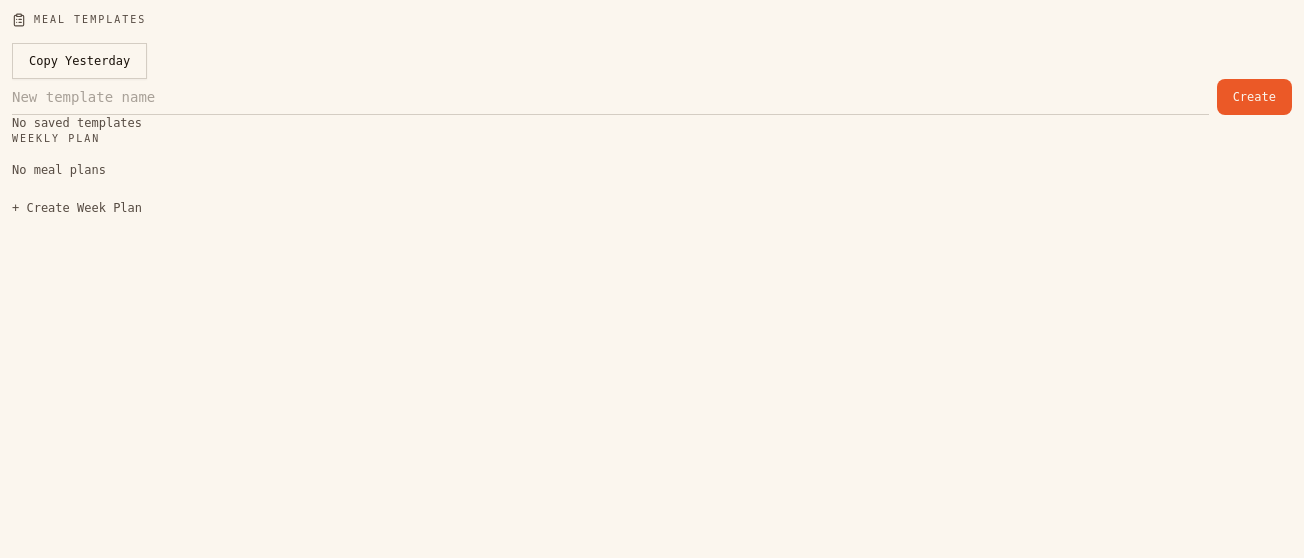
Test case: MealTemplates › renders the Create Week Plan section with plan name input
The image size is (1304, 558).
Click the button "+ Create Week Plan".
click(77, 208)  # box [12,200,142,216]
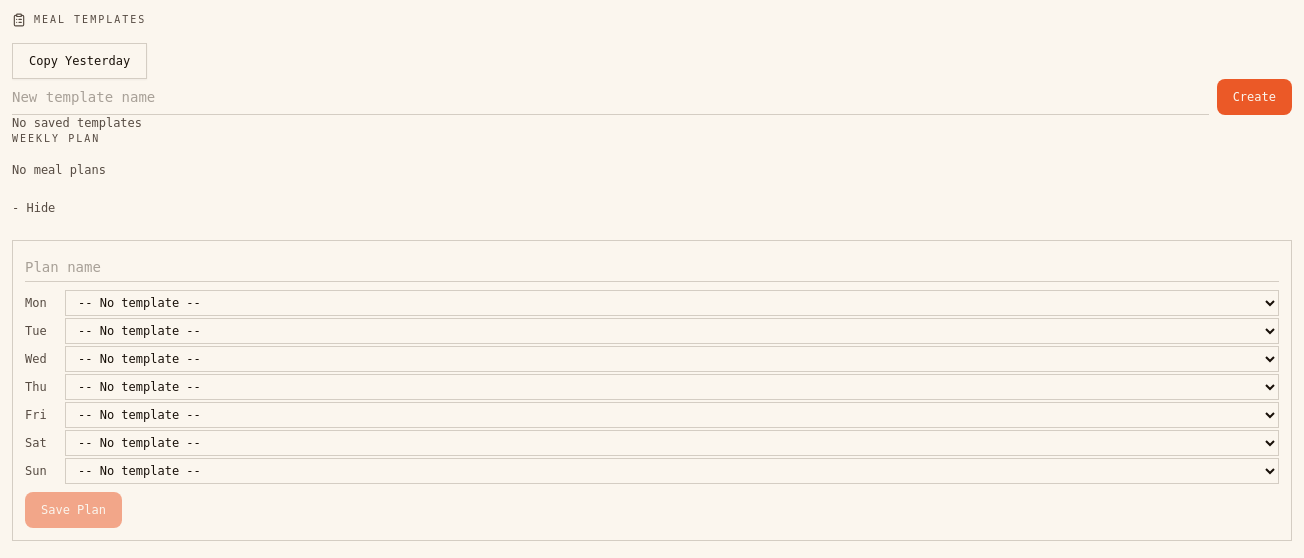
Now the field with placeholder "Plan name" is shown, box [25,253,1279,282]
